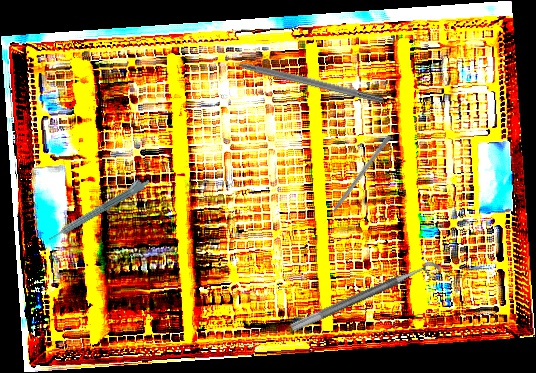Fixation Ring: (289, 257, 447, 345)
Handpiece: (44, 173, 152, 244)
Hook Surgical: (217, 53, 385, 105)
Pusher: (320, 134, 392, 226)
